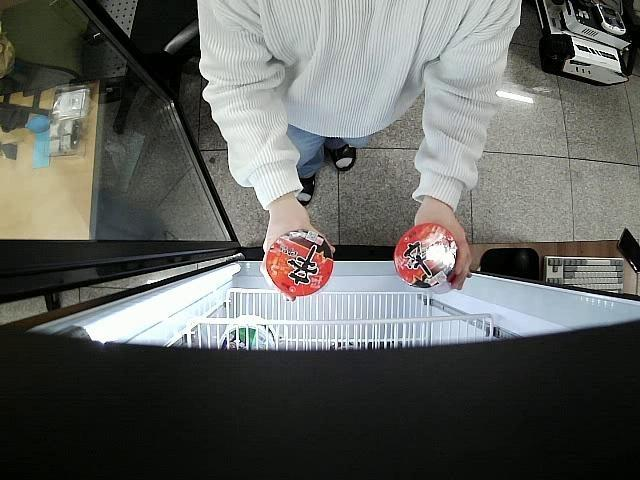02_shinRamen_S: (395, 220, 458, 294), (266, 230, 333, 297)
